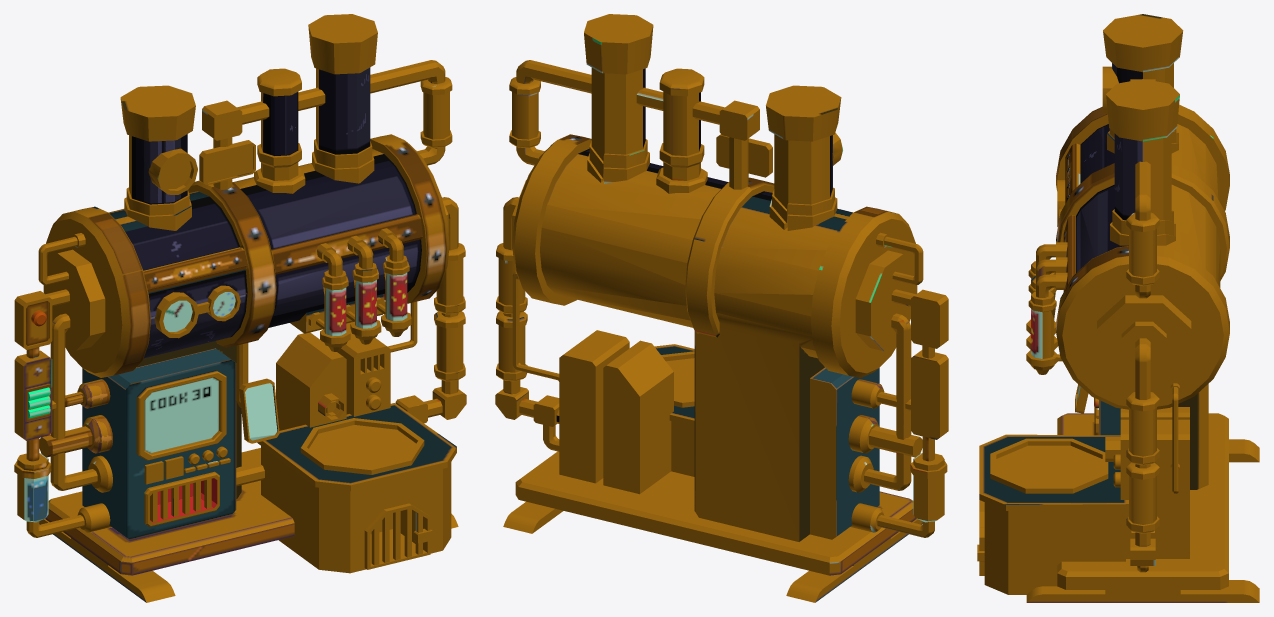
The model's file is BarBoiler.fbx.
3 renders of one model, left to right at view 1: azimuth 30°, elevation 25°; view 2: azimuth 150°, elevation 25°; view 3: azimuth 270°, elevation 25°, orthographic.
Visible parts, largest first — view 1: Pot, polySurface35; view 2: Pot; view 3: Pot.
Part boxes in pixels (<box>): Pot: <box>14,14,466,602</box>; polySurface35: <box>371,508,411,565</box>; Pot: <box>495,14,948,602</box>; Pot: <box>977,14,1259,602</box>.
Bounding box in the file's own units: 33010 × 33290 × 17761.
